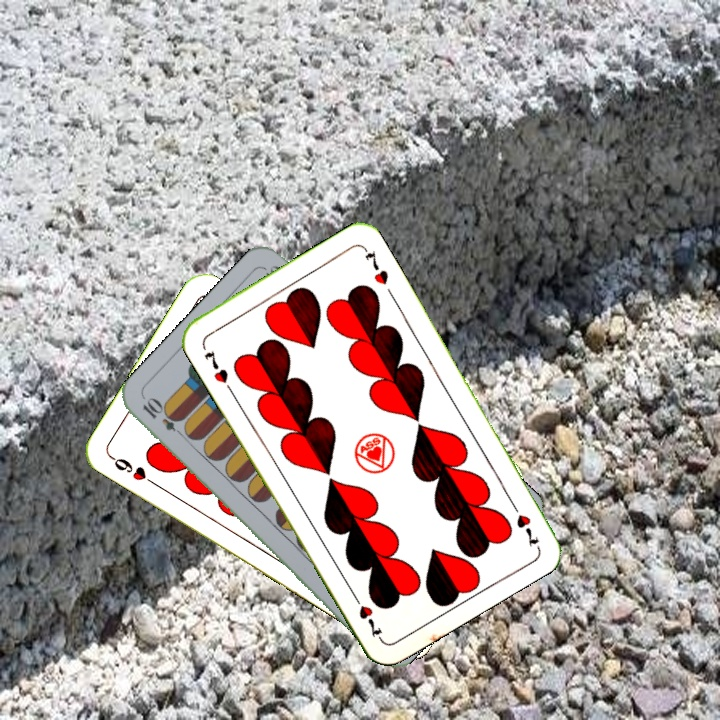E10: (138, 394, 189, 441)
H7: (505, 496, 542, 549), (200, 347, 231, 386)
H9: (106, 451, 160, 489)
